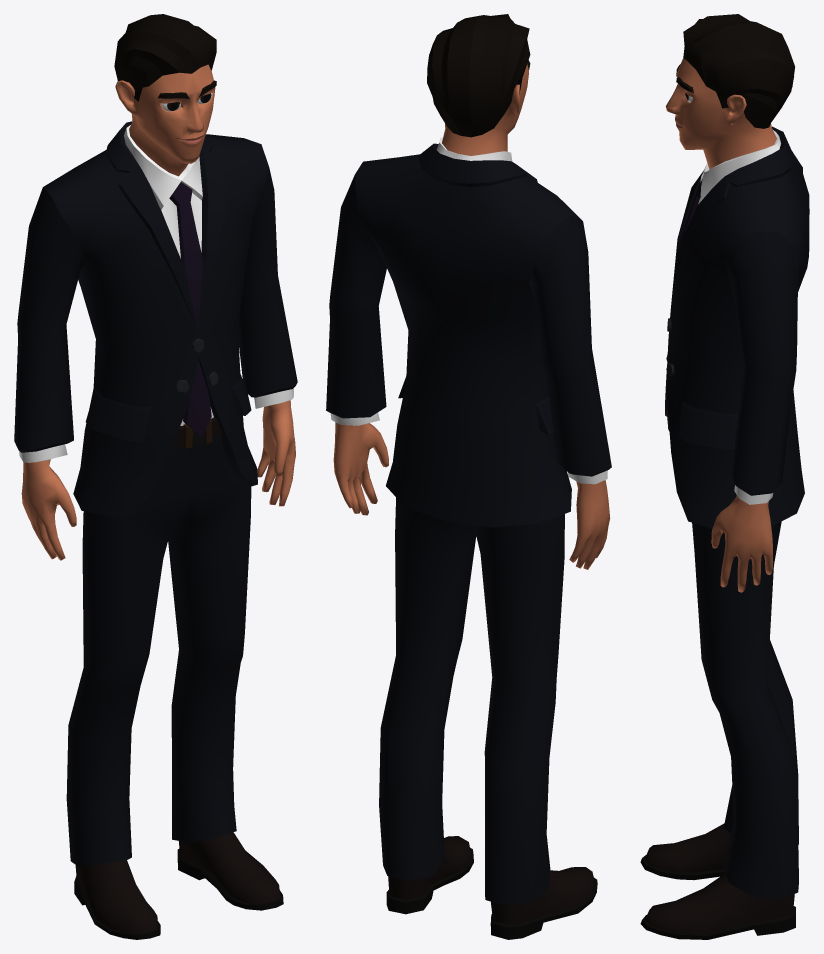
File: Man_In_Suit.fbx
3 views of the same model, side by side, from view 1: azimuth 30°, elevation 25°; view 2: azimuth 150°, elevation 25°; view 3: azimuth 270°, elevation 25° (orthographic).
Parts seen in each view (by area): view 1: man_in_suit; view 2: man_in_suit; view 3: man_in_suit.
Boxes of the visible parts, left/top/right/bottom form: man_in_suit: left=14, top=14, right=297, bottom=939; man_in_suit: left=326, top=14, right=611, bottom=939; man_in_suit: left=640, top=14, right=809, bottom=939.
Size of what is drawn, in the model's own units: 59.45 by 178 by 31.12.
